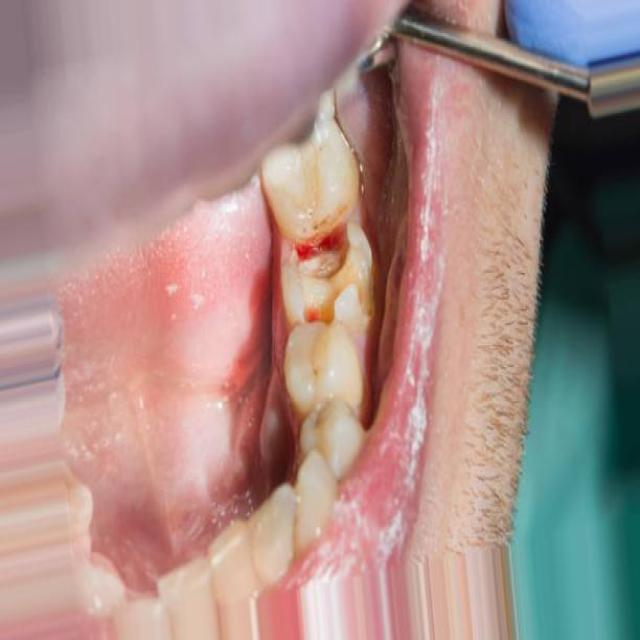caries: (282, 204, 366, 338)
